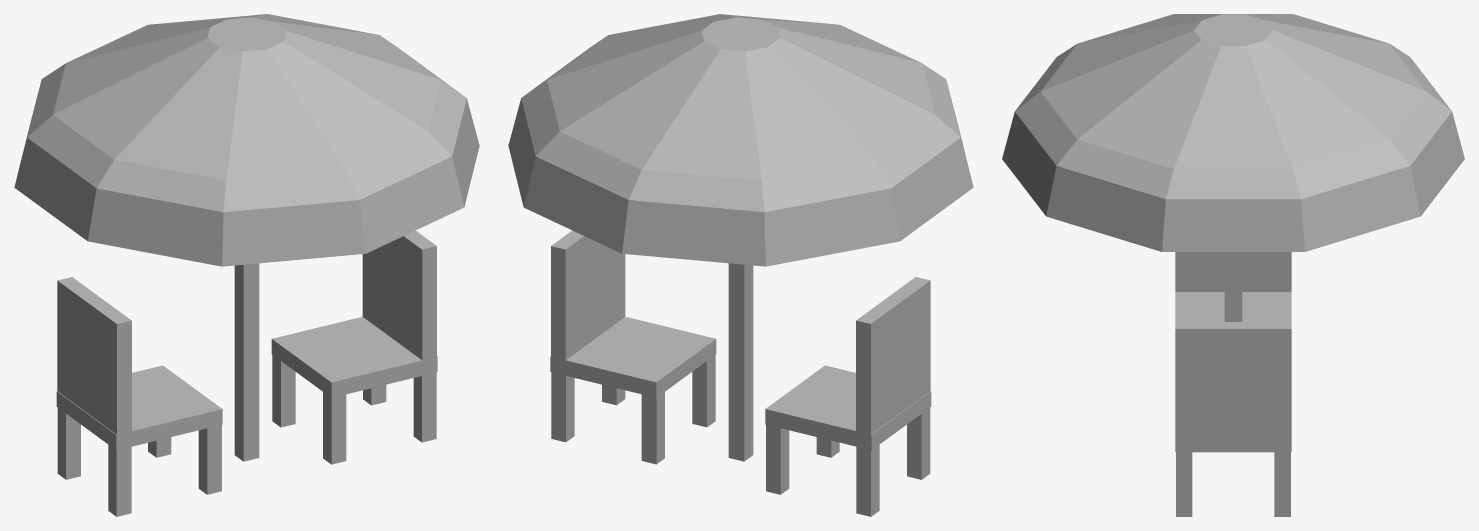
Rendered from Props_Coffee_shop_chair.glb.
3 renders of one model, left to right at view 1: azimuth 30°, elevation 25°; view 2: azimuth 150°, elevation 25°; view 3: azimuth 270°, elevation 25°, orthographic. The views are drawn at different scales.
Visible parts, largest first — view 1: Props_Coffee shop chair; view 2: Props_Coffee shop chair; view 3: Props_Coffee shop chair.
Part boxes in pixels (left/top/right/bottom): Props_Coffee shop chair: left=14, top=14, right=479, bottom=516; Props_Coffee shop chair: left=508, top=14, right=973, bottom=516; Props_Coffee shop chair: left=1002, top=14, right=1464, bottom=516.
Size of the model in its own units: 2.65 by 2.73 by 2.79.
Materials: 1 (1 with a texture image).
